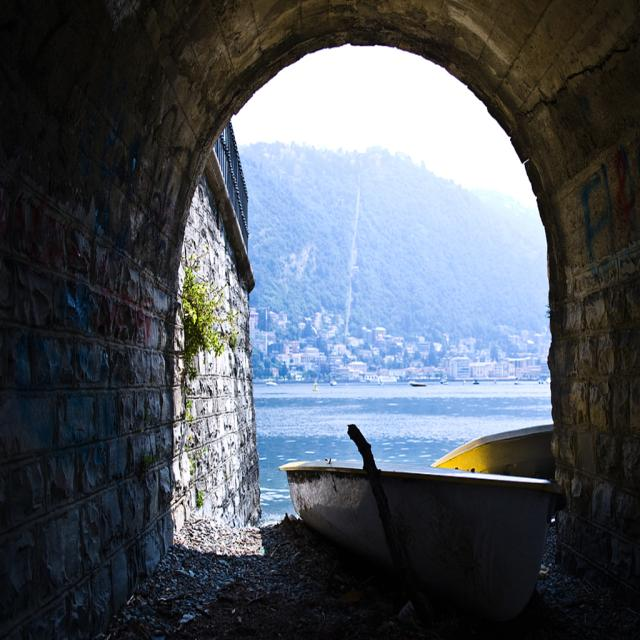Boat: (284, 410, 579, 607), (430, 425, 554, 520)
